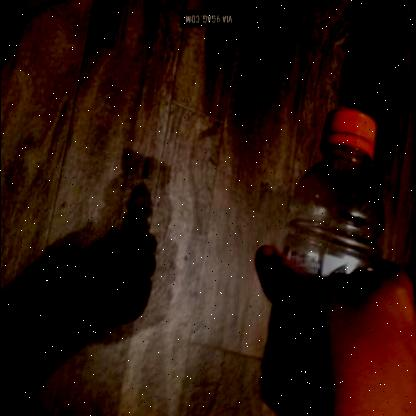Plastic Bottle: (284, 108, 386, 294)
